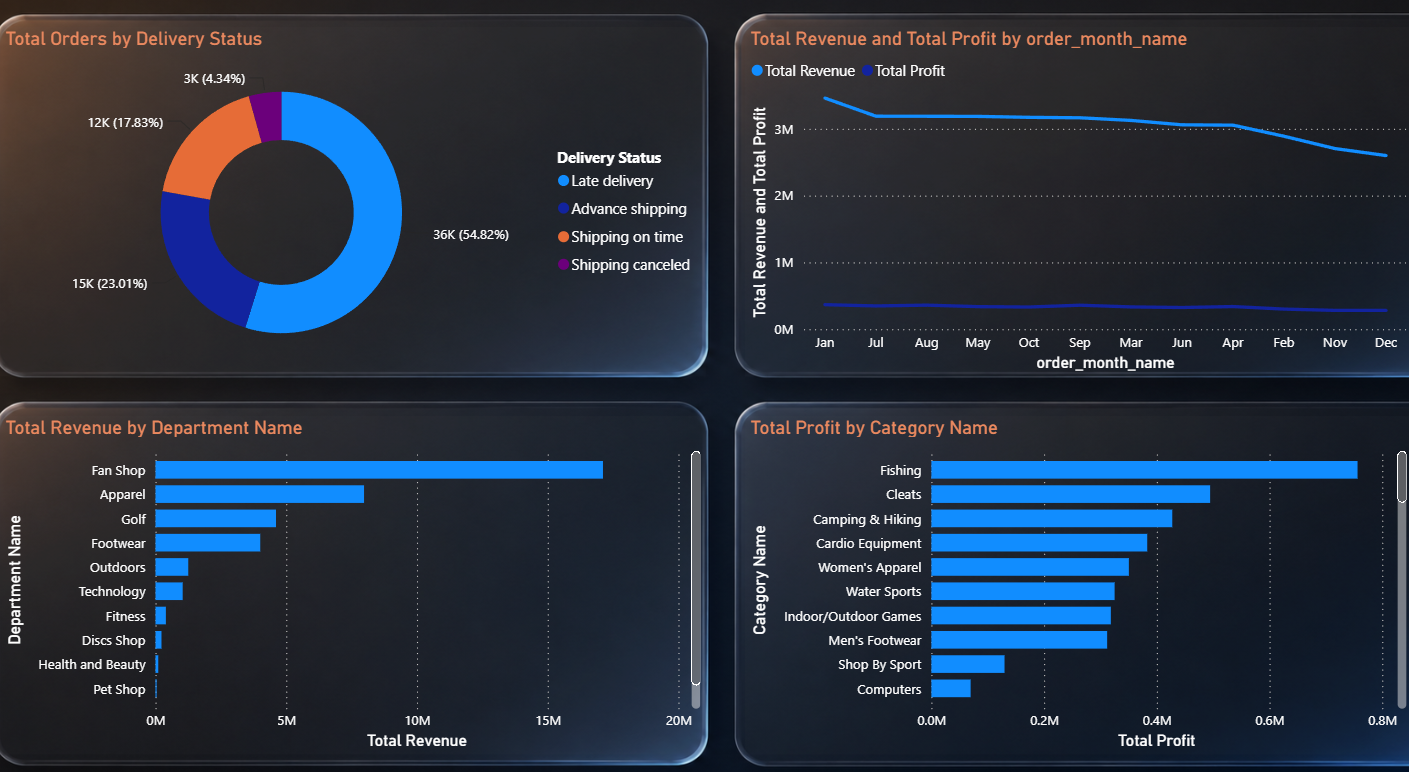

The dashboard page shown, as its layout file describes it:
{"tool":"powerbi","page":{"name":"Page 2","canvas":[1280,720],"ordinal":1},"visuals":[{"type":"clusteredBarChart","fields":{"Y":["cleaned_dataset.Total Revenue"],"Category":["cleaned_dataset.Department Name"]},"box":[0,386.3,640.2,307.4],"z":0},{"type":"lineChart","fields":{"Y":["cleaned_dataset.Total Revenue","cleaned_dataset.Total Profit"],"Category":["cleaned_dataset.order_month_name"]},"box":[675.6,33.6,604.8,317.4],"z":1000},{"type":"donutChart","fields":{"Y":["cleaned_dataset.Total Orders"],"Category":["cleaned_dataset.Delivery Status"]},"box":[0,33.6,640.2,317.4],"z":2000},{"type":"clusteredBarChart","fields":{"Category":["cleaned_dataset.Category Name"],"Y":["cleaned_dataset.Total Profit"]},"box":[675.6,386.3,604.8,307.4],"z":3000}]}

Visuals, with their boxes in screenshot pixels (x1, y1, x2, y2), scaled from the page's 1280x720 canvas onto the 1409x772 screenshot:
clusteredBarChart - cleaned_dataset.Total Revenue x cleaned_dataset.Department Name: locate(0, 414, 705, 744)
lineChart - cleaned_dataset.Total Revenue x cleaned_dataset.Total Profit: locate(744, 36, 1408, 376)
donutChart - cleaned_dataset.Total Orders x cleaned_dataset.Delivery Status: locate(0, 36, 705, 376)
clusteredBarChart - cleaned_dataset.Category Name x cleaned_dataset.Total Profit: locate(744, 414, 1408, 744)
